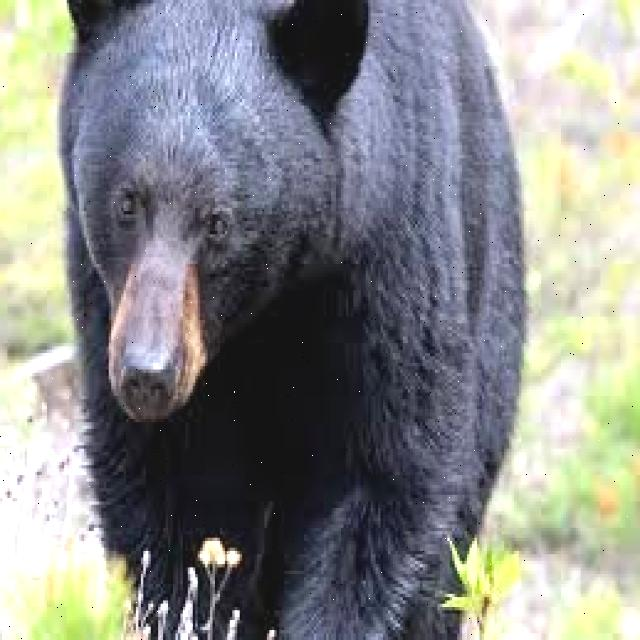bear: (53, 0, 520, 629)
